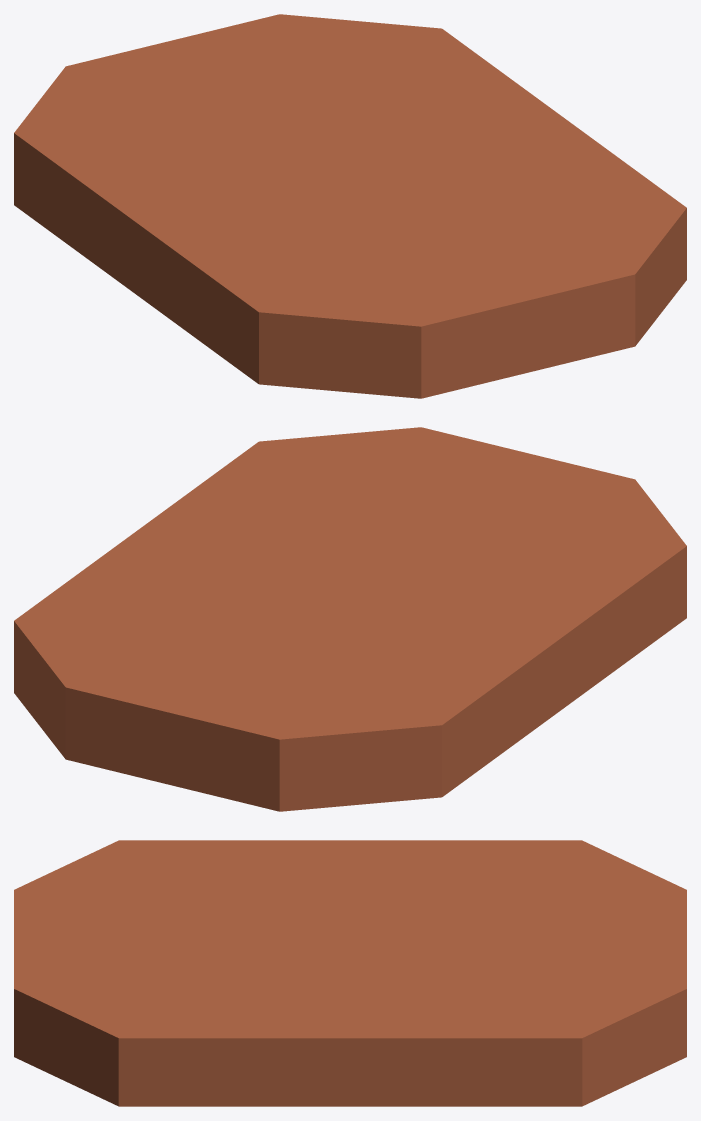
The model's file is MovingPlatform.fbx.
3 renders of one model, top to bottom at view 1: azimuth 30°, elevation 25°; view 2: azimuth 150°, elevation 25°; view 3: azimuth 270°, elevation 25°, orthographic. The views are drawn at different scales.
Parts seen in each view (by area): view 1: pCube1; view 2: pCube1; view 3: pCube1.
Boxes of the visible parts, left/top/right/bottom form: pCube1: left=14, top=14, right=686, bottom=398; pCube1: left=14, top=427, right=686, bottom=811; pCube1: left=14, top=840, right=686, bottom=1106.
Bounding box in the file's own units: 4.13 × 0.6655 × 5.94.
